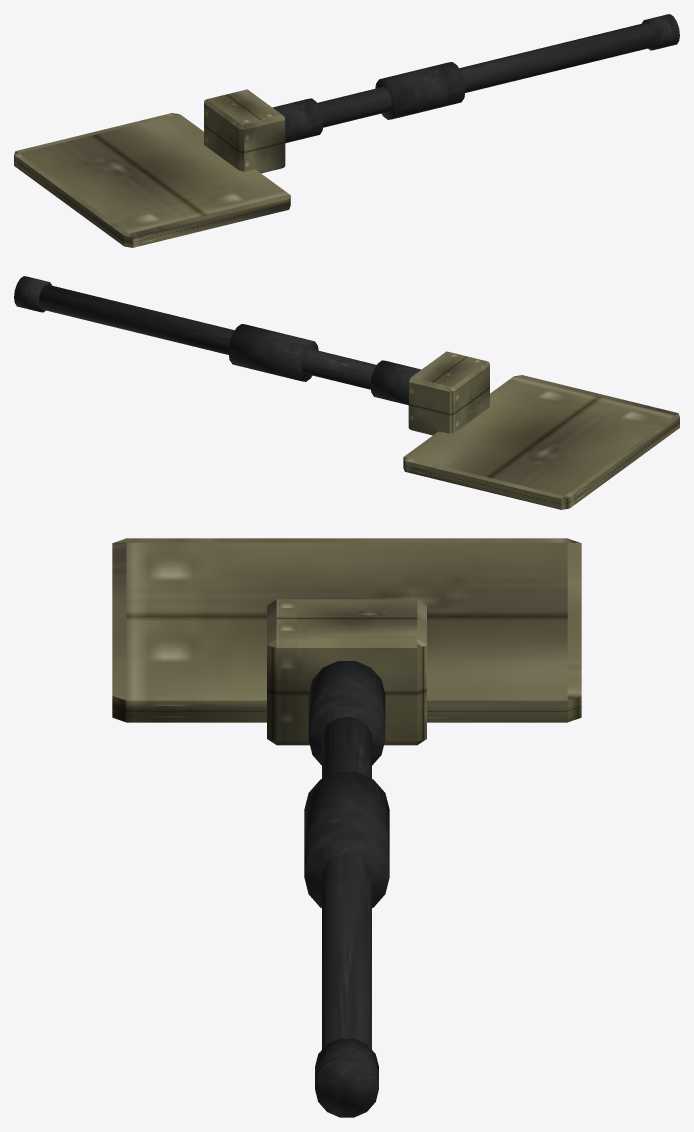
File: gun_scorpion_cannon.glb
The picture shows the model from 3 angles, top to bottom: view 1: azimuth 30°, elevation 25°; view 2: azimuth 150°, elevation 25°; view 3: azimuth 270°, elevation 25°; orthographic projection. The views are drawn at different scales.
Parts seen in each view (by area): view 1: gun_scorpion_cannon; view 2: gun_scorpion_cannon; view 3: gun_scorpion_cannon.
Boxes of the visible parts, x1,y1,x2,y2 form: gun_scorpion_cannon: (14, 14, 679, 247); gun_scorpion_cannon: (14, 276, 679, 509); gun_scorpion_cannon: (112, 538, 581, 1117).
Size of the model in its own units: 6.52 by 0.585 by 2.2.
2 materials, 2 textured.
